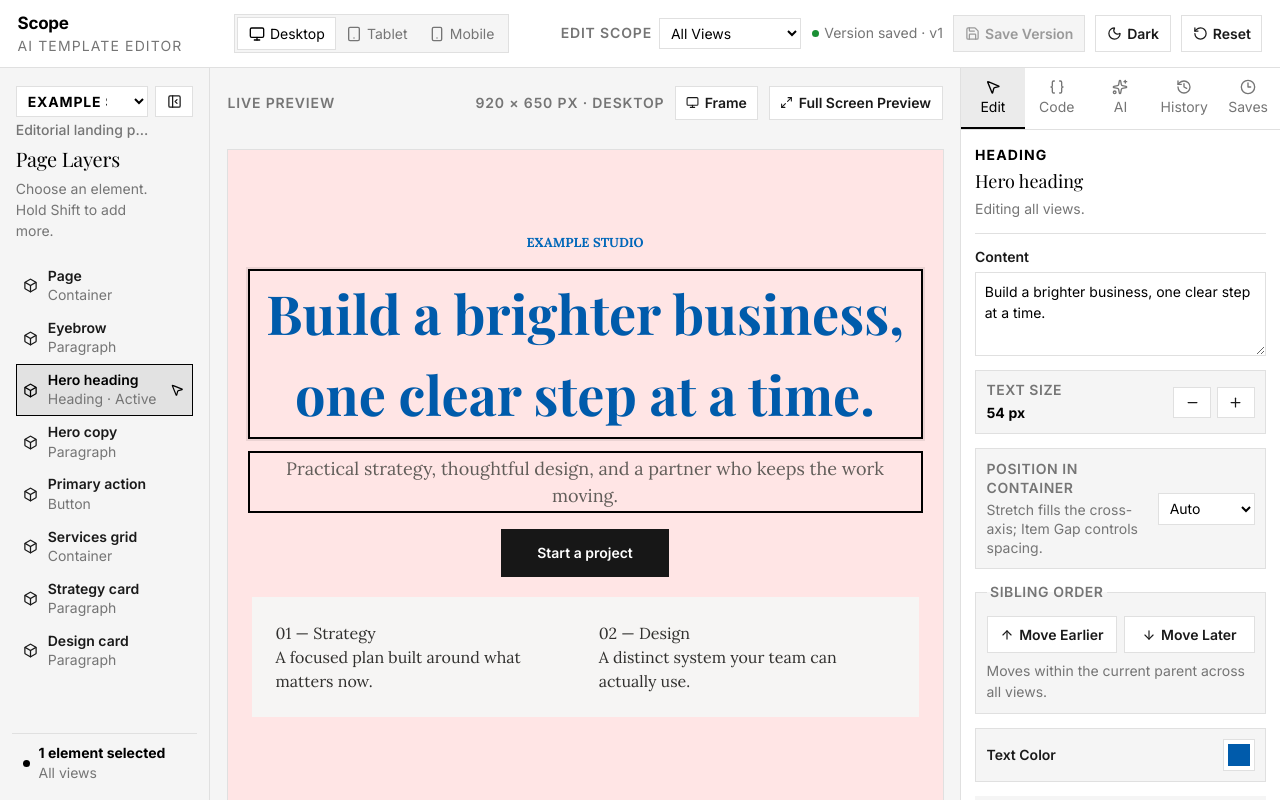
shows multi-selection indicator when multiple elements are selected
The image size is (1280, 800).
Type keys "{Shift>}{Enter}{/Shift}"
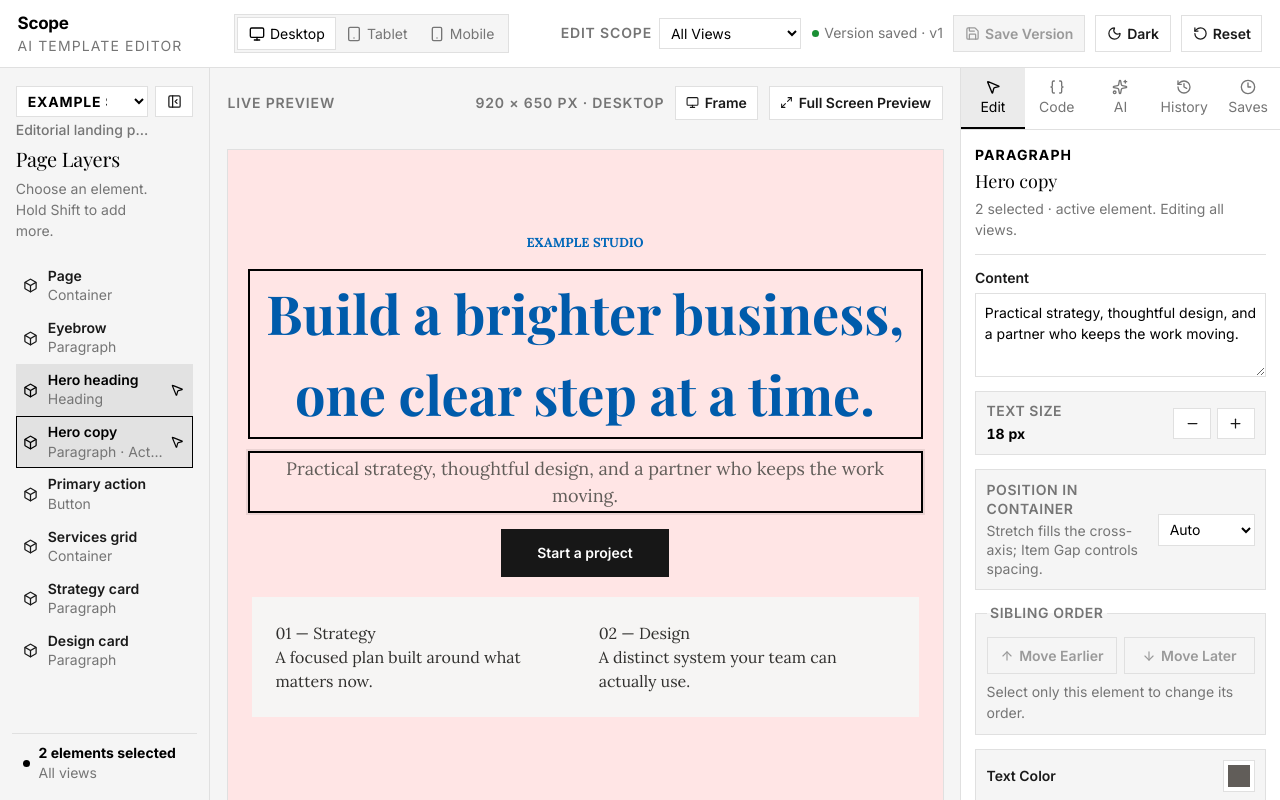
Click the tab "Code": [1057, 99] box [1025,68,1089,129]
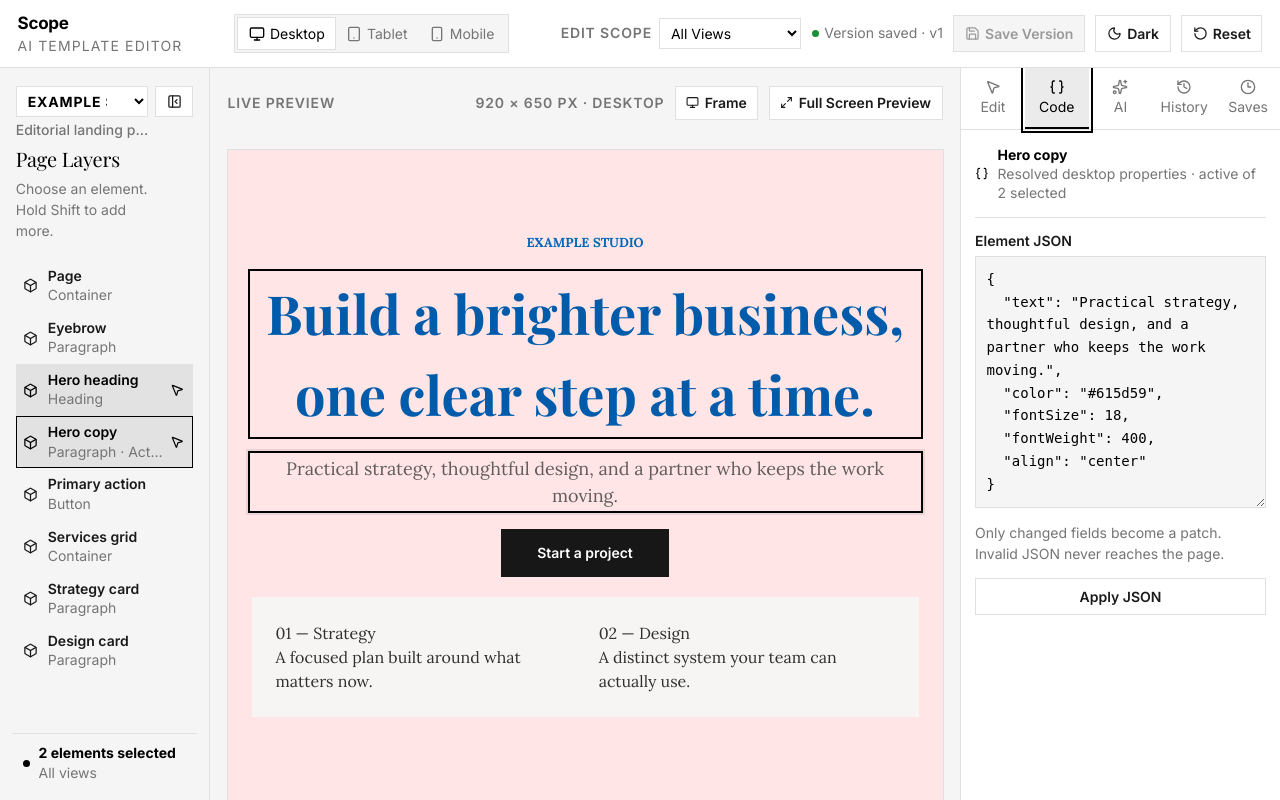
Expected: the text "Resolved desktop properties · active of 2 selected" is shown, [998,165,1256,201]
